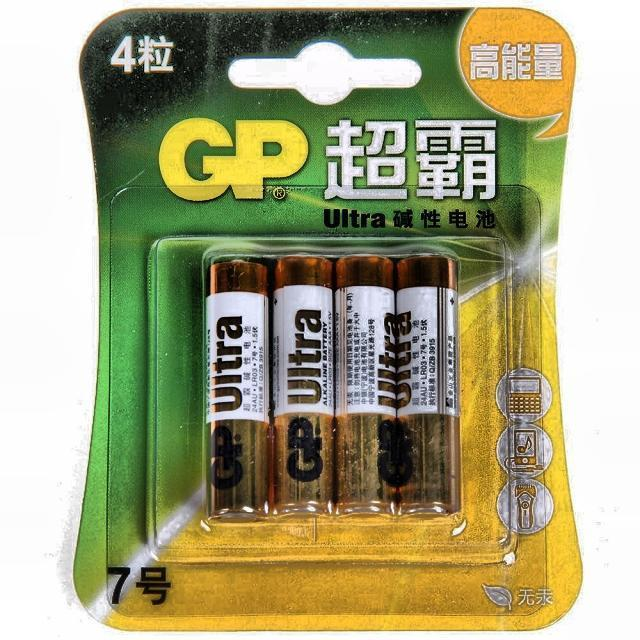battery: (335, 256, 399, 514), (206, 260, 269, 519), (396, 256, 459, 514), (274, 256, 334, 513)
